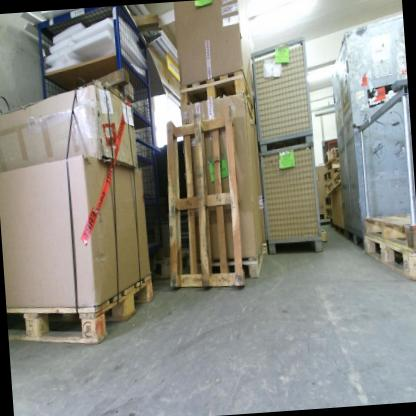pallet: (155, 112, 245, 292), (5, 269, 158, 349), (174, 65, 257, 129), (192, 239, 267, 284), (362, 227, 416, 288), (151, 245, 187, 282), (324, 170, 349, 197), (323, 145, 343, 167), (321, 168, 336, 182), (320, 222, 330, 243), (324, 206, 331, 218), (323, 196, 332, 205), (324, 187, 331, 197)
stillage: (250, 37, 317, 157), (256, 142, 324, 258)
